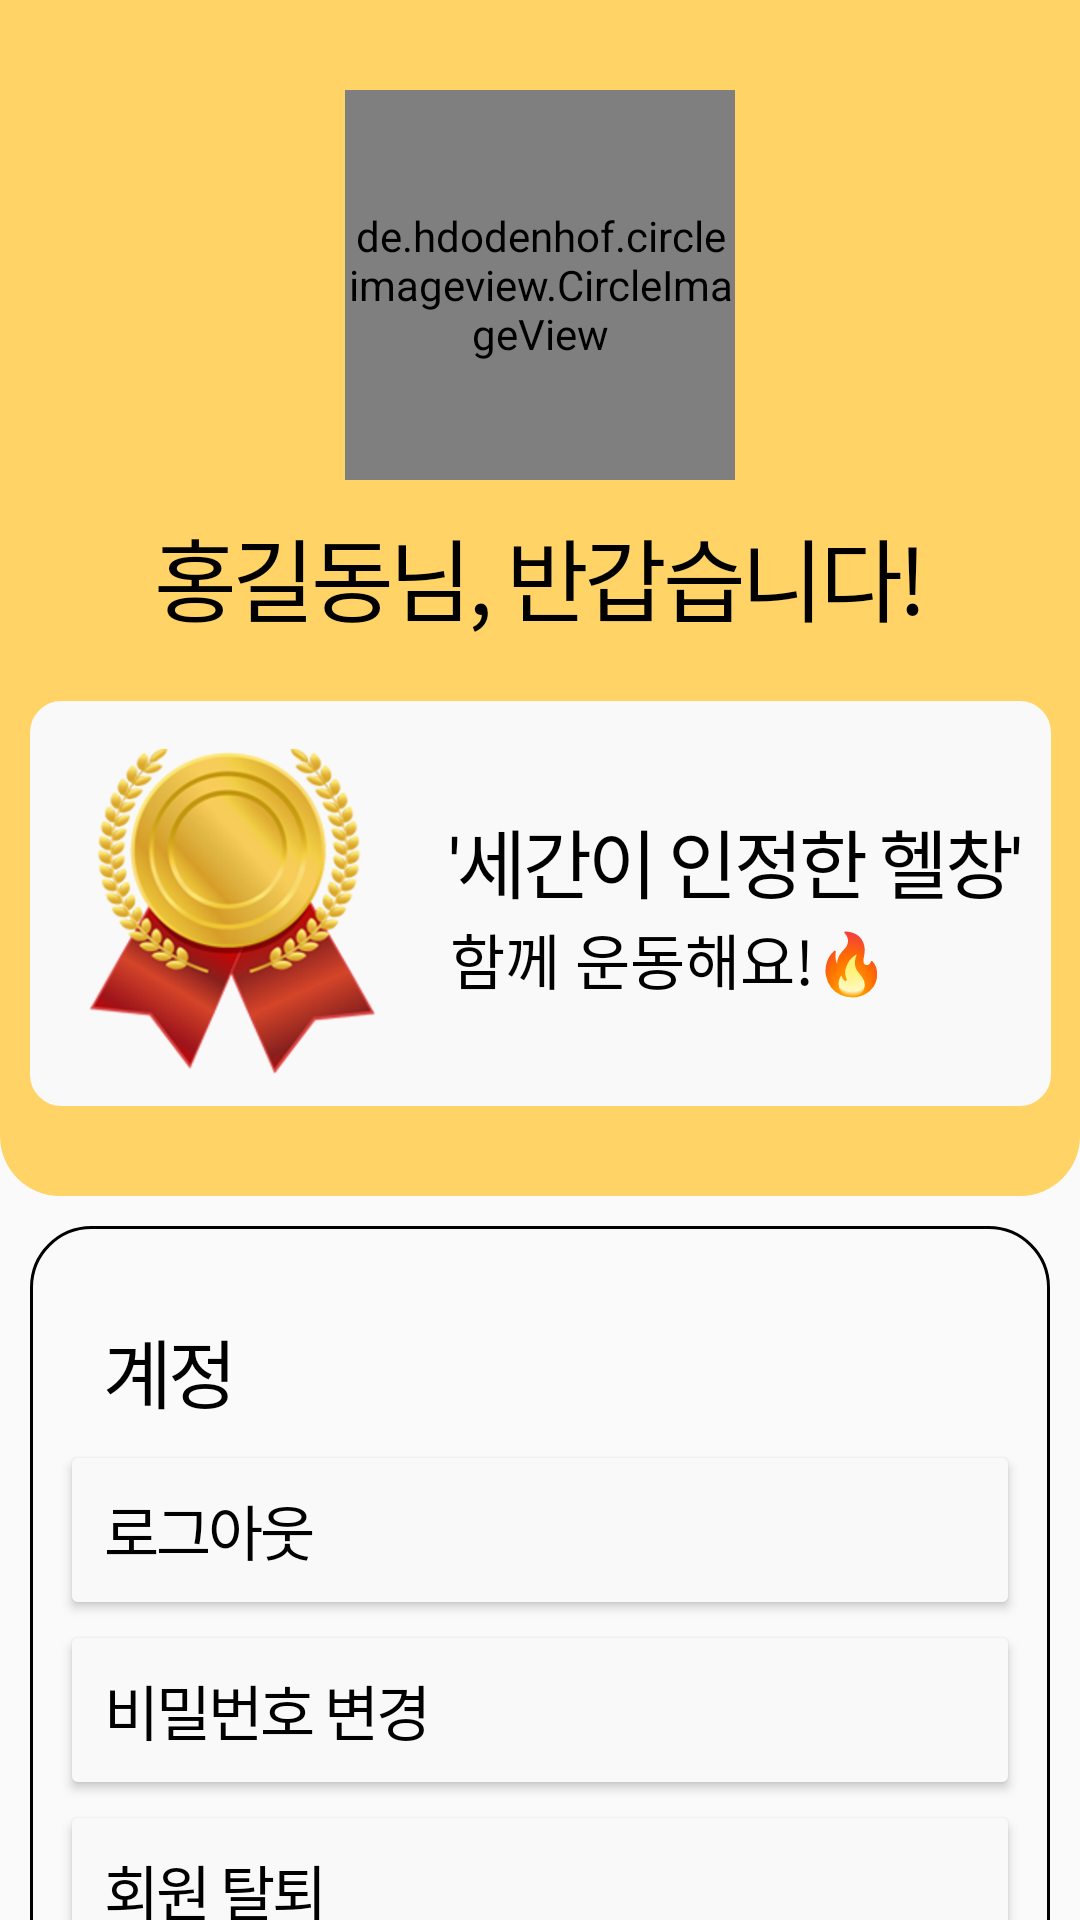

Icon click points for this 1080px x 1920px phone screenshot, format [x,y]:
tier gold: [232,910]
